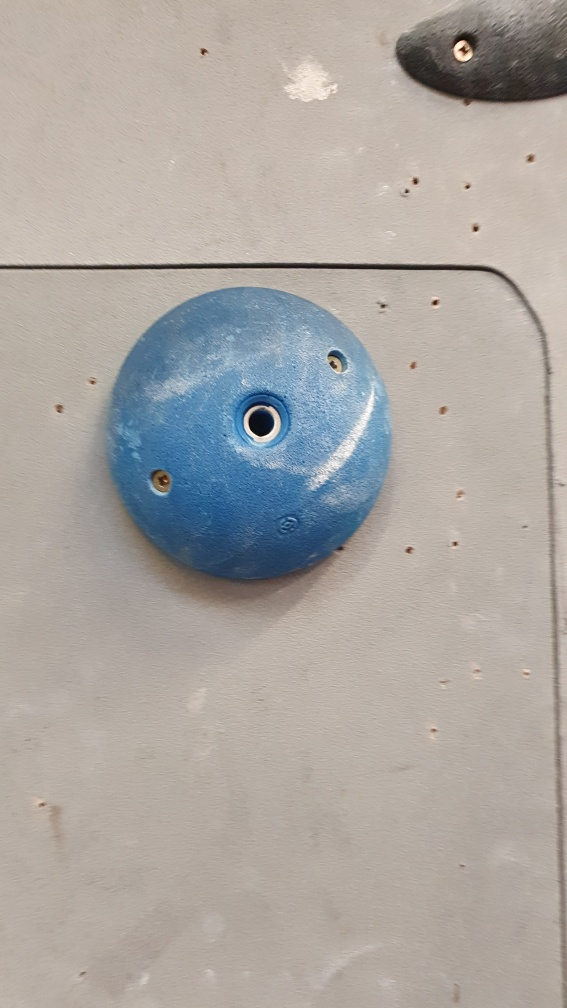Sloper: (102, 282, 398, 587)
